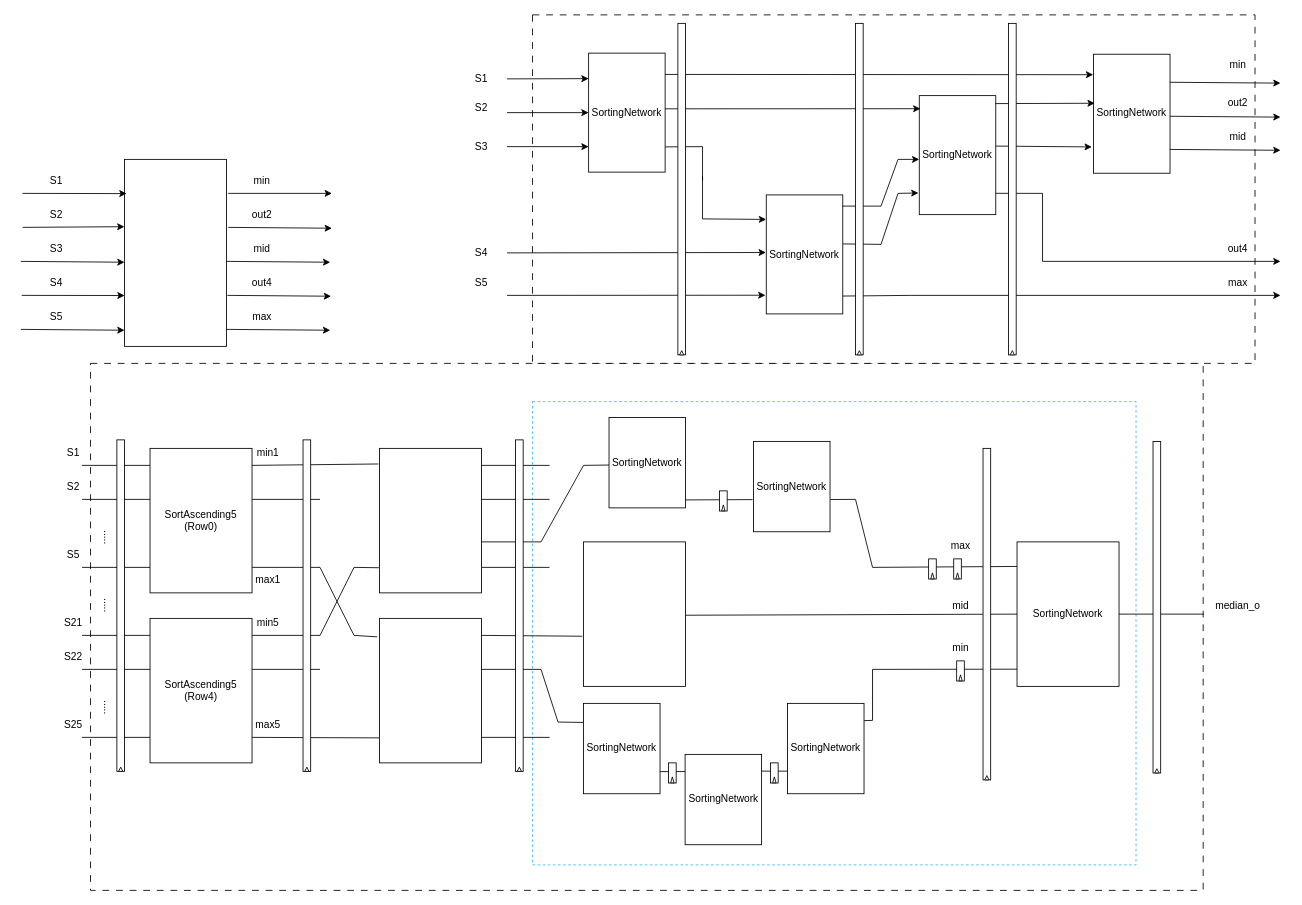
This 1302x905 diagram has some shape labels left out. Each missing label, with the box of its shape:
SortAscending5: (124, 159, 227, 346)
SortAscending5 (Col0): (379, 448, 482, 593)
SortAscending5 (Col4): (379, 618, 482, 763)
SortAscending5 (Diag1): (583, 541, 686, 686)
